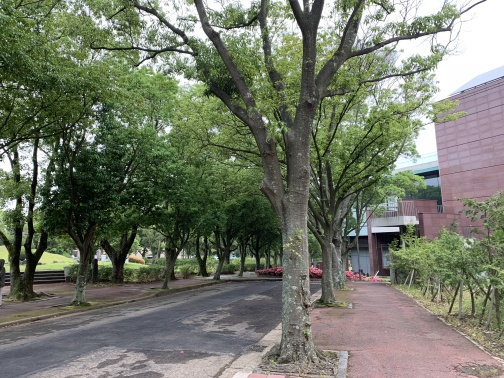Museum: (359, 54, 501, 283)
